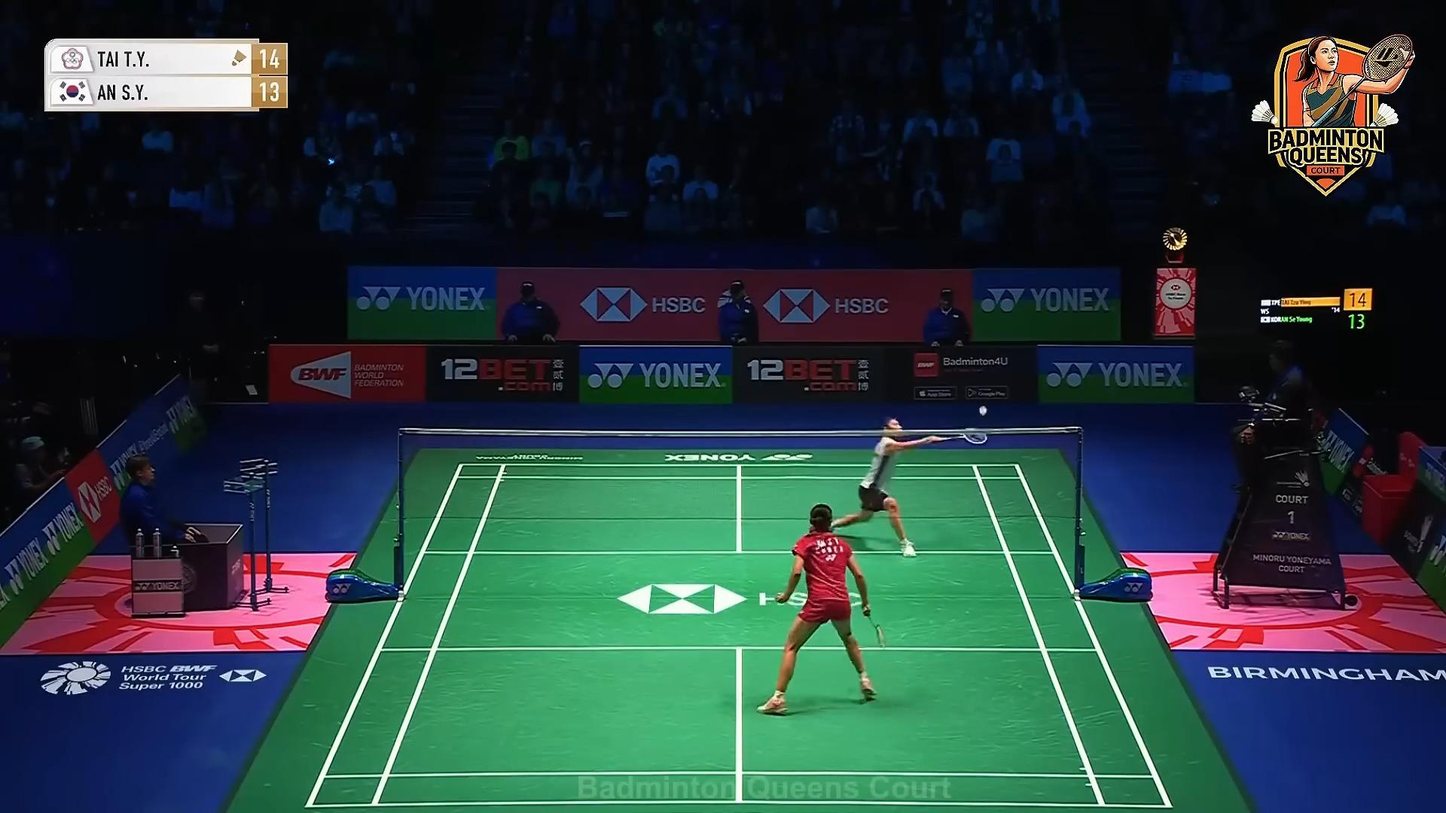player: (758, 504, 877, 716), (828, 412, 944, 559)
shuttlecock: (978, 406, 988, 416)
